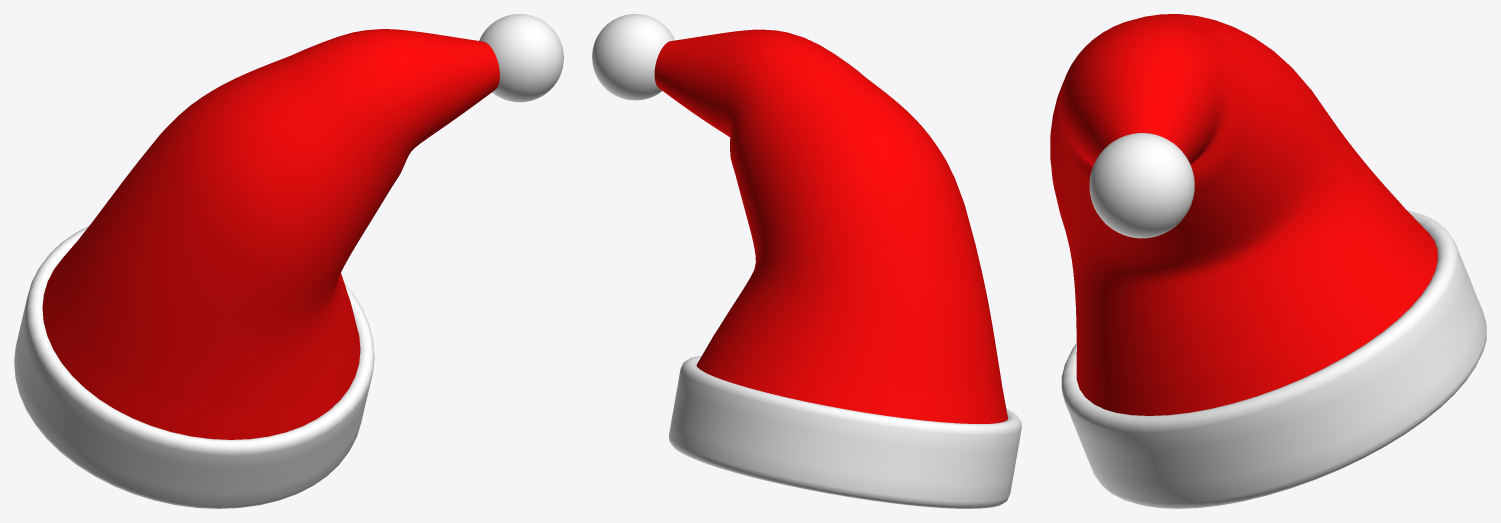
File: santasHat.gltf
3 renders of one model, left to right at view 1: azimuth 30°, elevation 25°; view 2: azimuth 150°, elevation 25°; view 3: azimuth 270°, elevation 25°, orthographic. The views are drawn at different scales.
Visible parts, largest first — view 1: Santa's Hat.4-Mat.1, Santa's Hat.4-Mat; view 2: Santa's Hat.4-Mat.1, Santa's Hat.4-Mat; view 3: Santa's Hat.4-Mat.1, Santa's Hat.4-Mat.
Part boxes in pixels (x1,y1,x2,y2): Santa's Hat.4-Mat.1: (42,29,499,439); Santa's Hat.4-Mat: (14,14,563,508); Santa's Hat.4-Mat.1: (654,29,1007,423); Santa's Hat.4-Mat: (592,14,1021,508); Santa's Hat.4-Mat.1: (1050,14,1437,415); Santa's Hat.4-Mat: (1061,133,1486,508).
Bounding box in the file's own units: 33.72 × 29.47 × 23.18.
